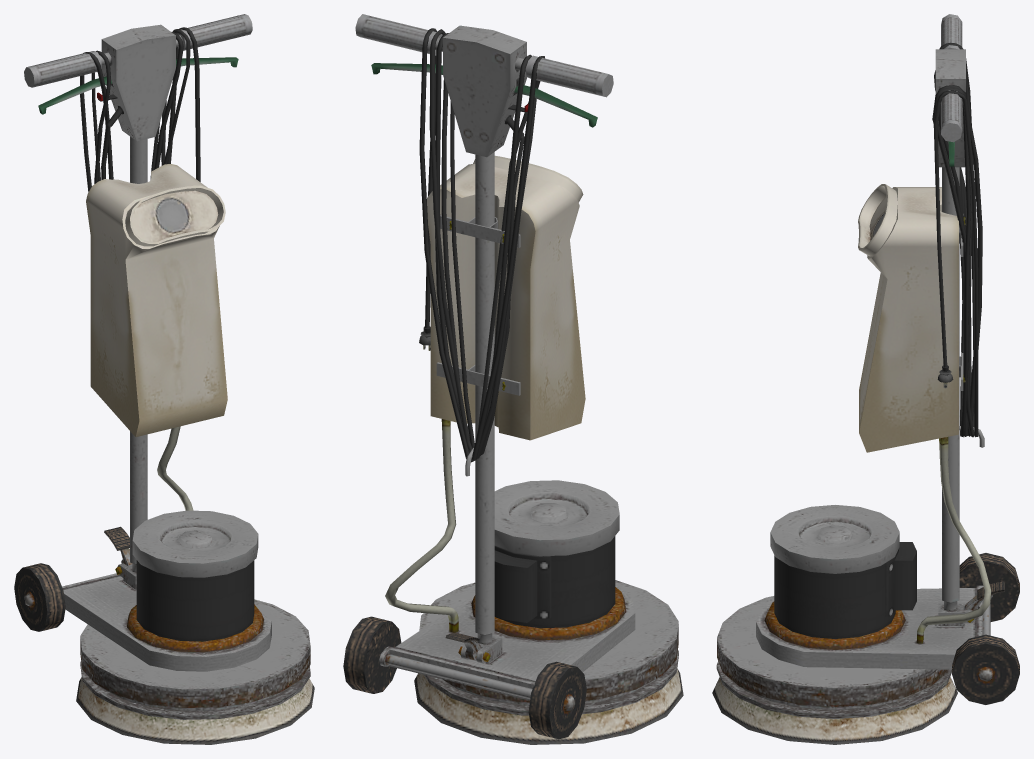
Rendered from 003_OfficePolisher.fbx.
The picture shows the model from 3 angles, left to right: view 1: azimuth 30°, elevation 25°; view 2: azimuth 150°, elevation 25°; view 3: azimuth 270°, elevation 25°; orthographic projection. The views are drawn at different scales.
Parts seen in each view (by area): view 1: LOD_1_Group_5_Sub_1__sm31_003_OfficePolisher01A_A_Mat, LOD_1_Group_9_Sub_1__sm31_003_OfficePolisher01A_A_Mat, LOD_1_Group_2_Sub_1__sm31_003_OfficePolisher01A_A_Mat, LOD_1_Group_3_Sub_1__sm31_003_OfficePolisher01A_A_Mat, LOD_1_Group_6_Sub_1__sm31_003_OfficePolisher01A_A_Mat, LOD_1_Group_11_Sub_1__sm31_003_OfficePolisher01A_A_Mat, LOD_1_Group_0_Sub_1__sm31_003_OfficePolisher01A_A_Mat, LOD_1_Group_18_Sub_1__sm31_003_OfficePolisher01A_A_Mat, LOD_1_Group_13_Sub_1__sm31_003_OfficePolisher01A_A_Mat, LOD_1_Group_17_Sub_1__sm31_003_OfficePolisher01A_A_Mat, LOD_1_Group_1_Sub_1__sm31_003_OfficePolisher01A_A_Mat, LOD_1_Group_7_Sub_1__sm31_003_OfficePolisher01A_A_Mat (+2 smaller); view 2: LOD_1_Group_5_Sub_1__sm31_003_OfficePolisher01A_A_Mat, LOD_1_Group_0_Sub_1__sm31_003_OfficePolisher01A_A_Mat, LOD_1_Group_9_Sub_1__sm31_003_OfficePolisher01A_A_Mat, LOD_1_Group_3_Sub_1__sm31_003_OfficePolisher01A_A_Mat, LOD_1_Group_17_Sub_1__sm31_003_OfficePolisher01A_A_Mat, LOD_1_Group_6_Sub_1__sm31_003_OfficePolisher01A_A_Mat, LOD_1_Group_2_Sub_1__sm31_003_OfficePolisher01A_A_Mat, LOD_1_Group_11_Sub_1__sm31_003_OfficePolisher01A_A_Mat, LOD_1_Group_13_Sub_1__sm31_003_OfficePolisher01A_A_Mat, LOD_1_Group_18_Sub_1__sm31_003_OfficePolisher01A_A_Mat, LOD_1_Group_19_Sub_1__sm31_003_OfficePolisher01A_A_Mat, LOD_1_Group_14_Sub_1__sm31_003_OfficePolisher01A_A_Mat (+4 smaller); view 3: LOD_1_Group_5_Sub_1__sm31_003_OfficePolisher01A_A_Mat, LOD_1_Group_9_Sub_1__sm31_003_OfficePolisher01A_A_Mat, LOD_1_Group_2_Sub_1__sm31_003_OfficePolisher01A_A_Mat, LOD_1_Group_0_Sub_1__sm31_003_OfficePolisher01A_A_Mat, LOD_1_Group_3_Sub_1__sm31_003_OfficePolisher01A_A_Mat, LOD_1_Group_11_Sub_1__sm31_003_OfficePolisher01A_A_Mat, LOD_1_Group_13_Sub_1__sm31_003_OfficePolisher01A_A_Mat, LOD_1_Group_17_Sub_1__sm31_003_OfficePolisher01A_A_Mat, LOD_1_Group_1_Sub_1__sm31_003_OfficePolisher01A_A_Mat, LOD_1_Group_14_Sub_1__sm31_003_OfficePolisher01A_A_Mat, LOD_1_Group_19_Sub_1__sm31_003_OfficePolisher01A_A_Mat, LOD_1_Group_18_Sub_1__sm31_003_OfficePolisher01A_A_Mat (+2 smaller).
Boxes of the visible parts, x1,y1,x2,y2 form: LOD_1_Group_5_Sub_1__sm31_003_OfficePolisher01A_A_Mat: (86,164,227,436); LOD_1_Group_9_Sub_1__sm31_003_OfficePolisher01A_A_Mat: (127,510,263,652); LOD_1_Group_2_Sub_1__sm31_003_OfficePolisher01A_A_Mat: (80,599,310,710); LOD_1_Group_3_Sub_1__sm31_003_OfficePolisher01A_A_Mat: (62,573,271,671); LOD_1_Group_6_Sub_1__sm31_003_OfficePolisher01A_A_Mat: (101,24,175,141); LOD_1_Group_11_Sub_1__sm31_003_OfficePolisher01A_A_Mat: (76,677,314,744); LOD_1_Group_0_Sub_1__sm31_003_OfficePolisher01A_A_Mat: (80,27,200,192); LOD_1_Group_18_Sub_1__sm31_003_OfficePolisher01A_A_Mat: (24,14,252,114); LOD_1_Group_13_Sub_1__sm31_003_OfficePolisher01A_A_Mat: (14,563,65,631); LOD_1_Group_17_Sub_1__sm31_003_OfficePolisher01A_A_Mat: (130,136,147,572); LOD_1_Group_1_Sub_1__sm31_003_OfficePolisher01A_A_Mat: (80,661,310,719); LOD_1_Group_7_Sub_1__sm31_003_OfficePolisher01A_A_Mat: (125,185,225,246); LOD_1_Group_5_Sub_1__sm31_003_OfficePolisher01A_A_Mat: (427,164,585,440); LOD_1_Group_0_Sub_1__sm31_003_OfficePolisher01A_A_Mat: (419,28,544,462); LOD_1_Group_9_Sub_1__sm31_003_OfficePolisher01A_A_Mat: (471,480,626,640); LOD_1_Group_3_Sub_1__sm31_003_OfficePolisher01A_A_Mat: (379,585,635,700); LOD_1_Group_17_Sub_1__sm31_003_OfficePolisher01A_A_Mat: (465,152,494,644); LOD_1_Group_6_Sub_1__sm31_003_OfficePolisher01A_A_Mat: (443,25,526,157); LOD_1_Group_2_Sub_1__sm31_003_OfficePolisher01A_A_Mat: (419,580,678,705); LOD_1_Group_11_Sub_1__sm31_003_OfficePolisher01A_A_Mat: (414,668,683,744); LOD_1_Group_13_Sub_1__sm31_003_OfficePolisher01A_A_Mat: (343,616,586,739); LOD_1_Group_18_Sub_1__sm31_003_OfficePolisher01A_A_Mat: (355,14,613,127); LOD_1_Group_19_Sub_1__sm31_003_OfficePolisher01A_A_Mat: (494,546,551,622); LOD_1_Group_14_Sub_1__sm31_003_OfficePolisher01A_A_Mat: (385,419,458,632); LOD_1_Group_5_Sub_1__sm31_003_OfficePolisher01A_A_Mat: (859,187,958,452); LOD_1_Group_9_Sub_1__sm31_003_OfficePolisher01A_A_Mat: (764,505,905,649); LOD_1_Group_2_Sub_1__sm31_003_OfficePolisher01A_A_Mat: (717,596,948,709); LOD_1_Group_0_Sub_1__sm31_003_OfficePolisher01A_A_Mat: (932,42,982,437); LOD_1_Group_3_Sub_1__sm31_003_OfficePolisher01A_A_Mat: (756,585,992,669); LOD_1_Group_11_Sub_1__sm31_003_OfficePolisher01A_A_Mat: (712,677,957,744); LOD_1_Group_13_Sub_1__sm31_003_OfficePolisher01A_A_Mat: (952,553,1019,704); LOD_1_Group_17_Sub_1__sm31_003_OfficePolisher01A_A_Mat: (942,167,984,611); LOD_1_Group_1_Sub_1__sm31_003_OfficePolisher01A_A_Mat: (716,661,951,718); LOD_1_Group_14_Sub_1__sm31_003_OfficePolisher01A_A_Mat: (916,437,991,643); LOD_1_Group_19_Sub_1__sm31_003_OfficePolisher01A_A_Mat: (885,542,916,617); LOD_1_Group_18_Sub_1__sm31_003_OfficePolisher01A_A_Mat: (941,14,962,166).
Size of the model in its own units: 0.4113 by 1.11 by 0.4914.
